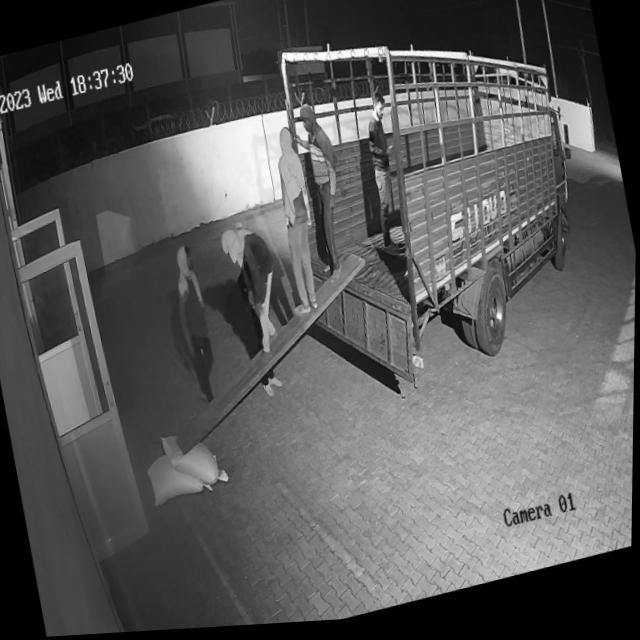sack: (160, 423, 231, 499), (145, 446, 216, 510)
